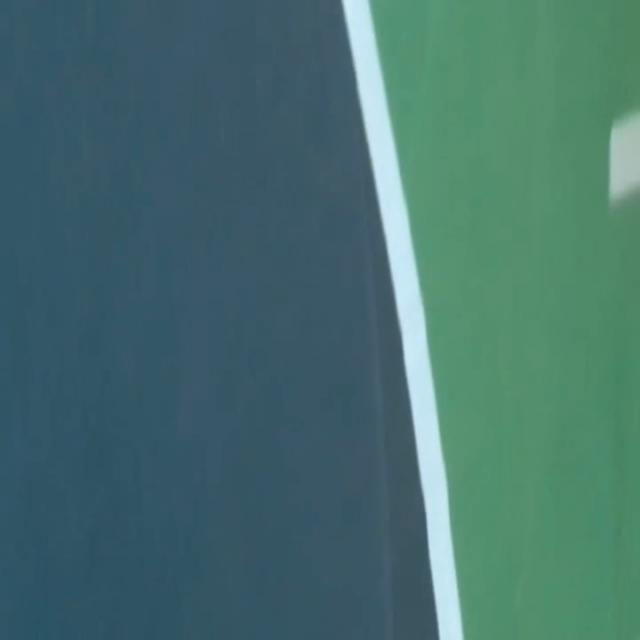right: (342, 0, 463, 639)
